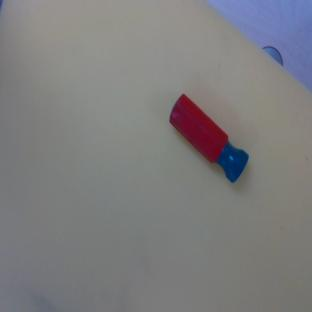part_2_good: (162, 93, 255, 183)
